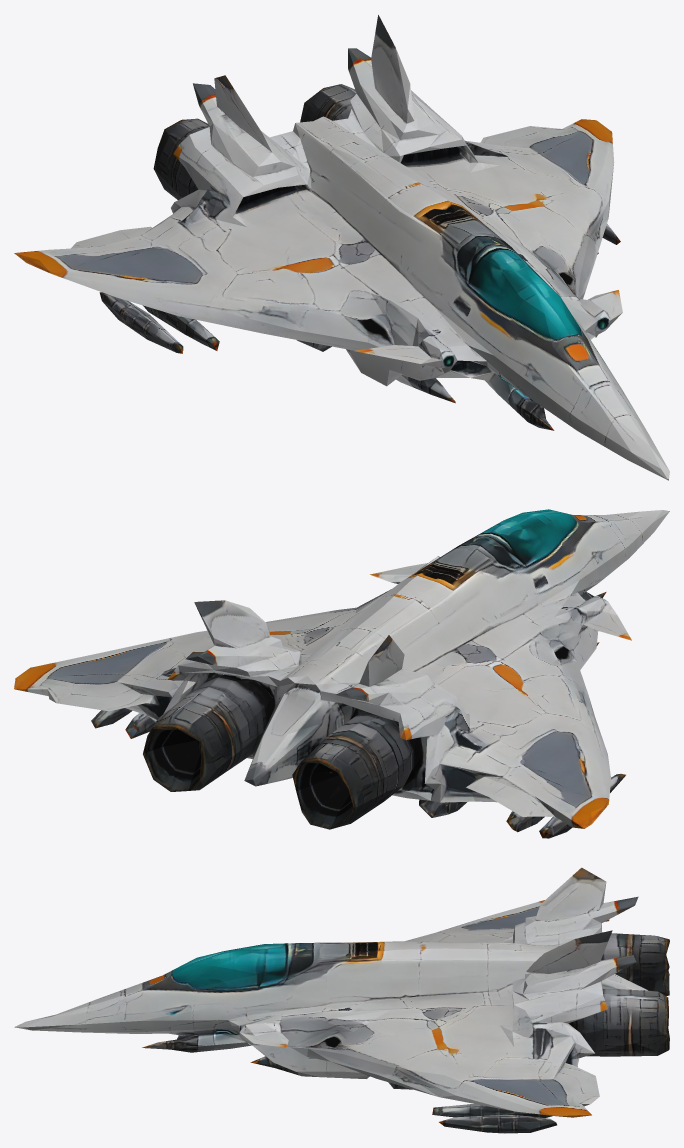
The model's file is シューティング自機白.glb.
3 views of the same model, one above another, from view 1: azimuth 30°, elevation 25°; view 2: azimuth 150°, elevation 25°; view 3: azimuth 270°, elevation 25° (orthographic). The views are drawn at different scales.
Visible parts, largest first — view 1: Mesh; view 2: Mesh; view 3: Mesh.
Boxes of the visible parts, x1=… form: Mesh: x1=14, y1=15, x2=669, y2=480; Mesh: x1=14, y1=509, x2=669, y2=838; Mesh: x1=14, y1=867, x2=669, y2=1133.
Size of the model in its own units: 1.4 by 0.4597 by 1.76.
Materials: 1 (1 with a texture image).
